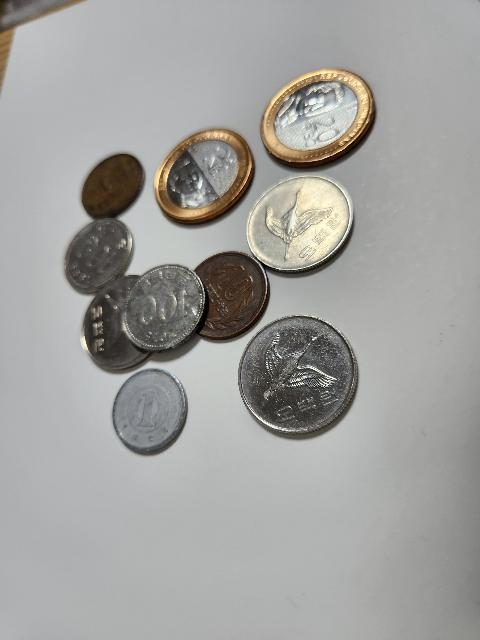coin: (240, 317, 356, 439), (260, 67, 376, 165), (250, 172, 352, 272), (157, 126, 255, 227), (188, 249, 268, 341), (85, 277, 163, 367), (120, 266, 202, 350), (111, 370, 185, 452), (66, 222, 132, 290), (78, 155, 144, 217)
